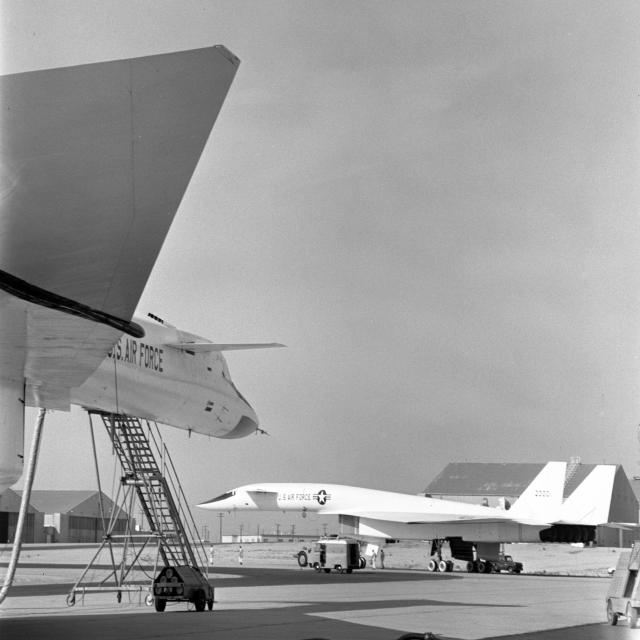MIL_Plane: (0, 44, 288, 494), (185, 461, 640, 573)
